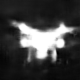plane: (9, 18, 79, 63)
